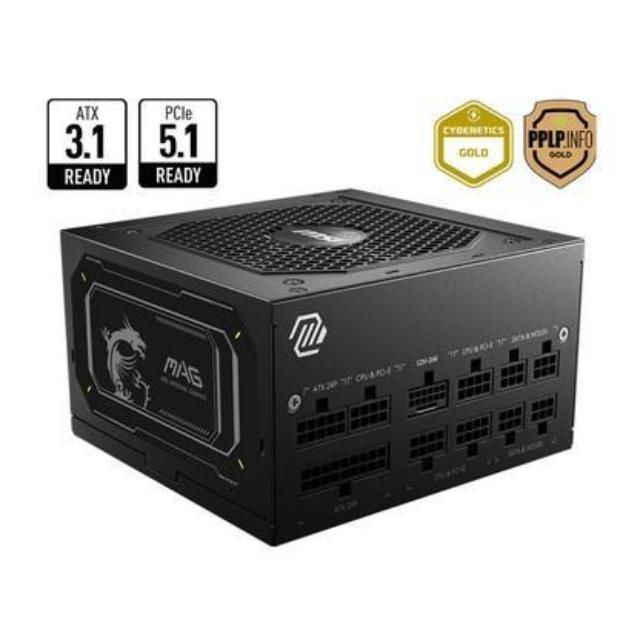PSU: (50, 183, 590, 554)
